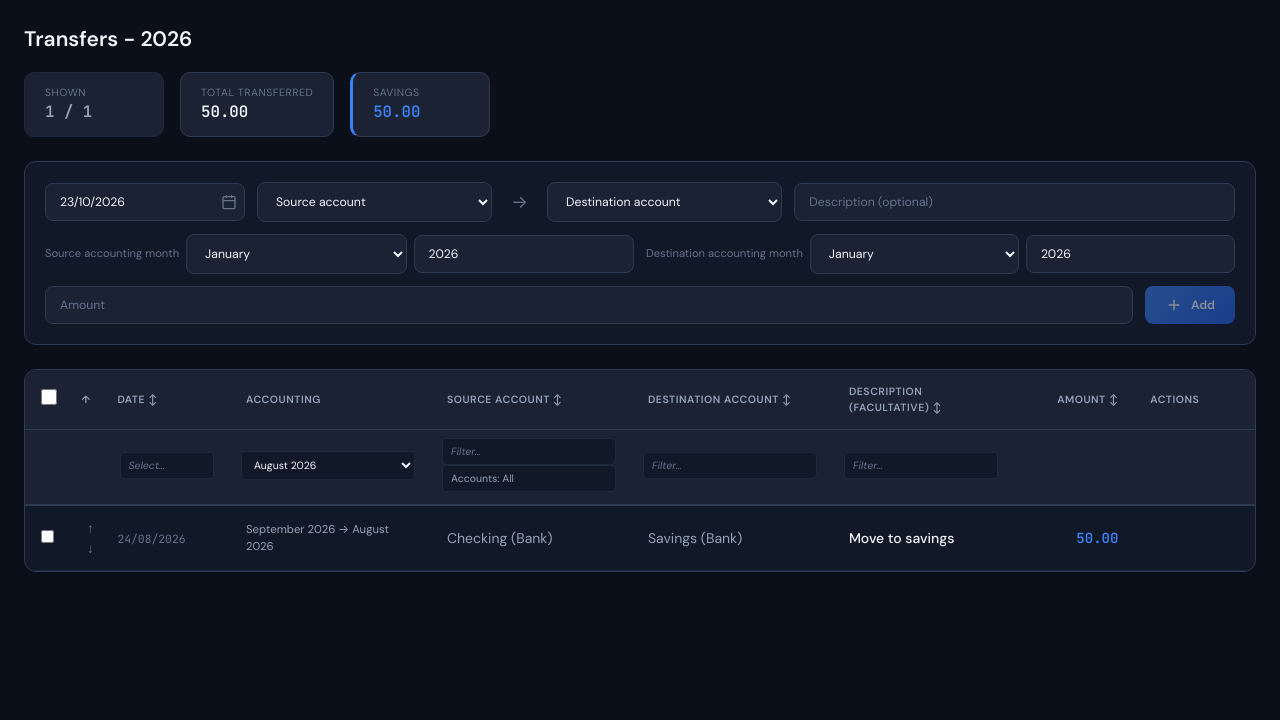
Test: transfer filters › counts savings only in the savings side accounting period
Select "August 2026" in the dropdown named "Accounting month" at x=328, y=465, box top-left (241, 451), bottom-right (415, 480)
Select "August 2026" in the dropdown named "Accounting month" at x=328, y=465, box top-left (241, 451), bottom-right (415, 480)
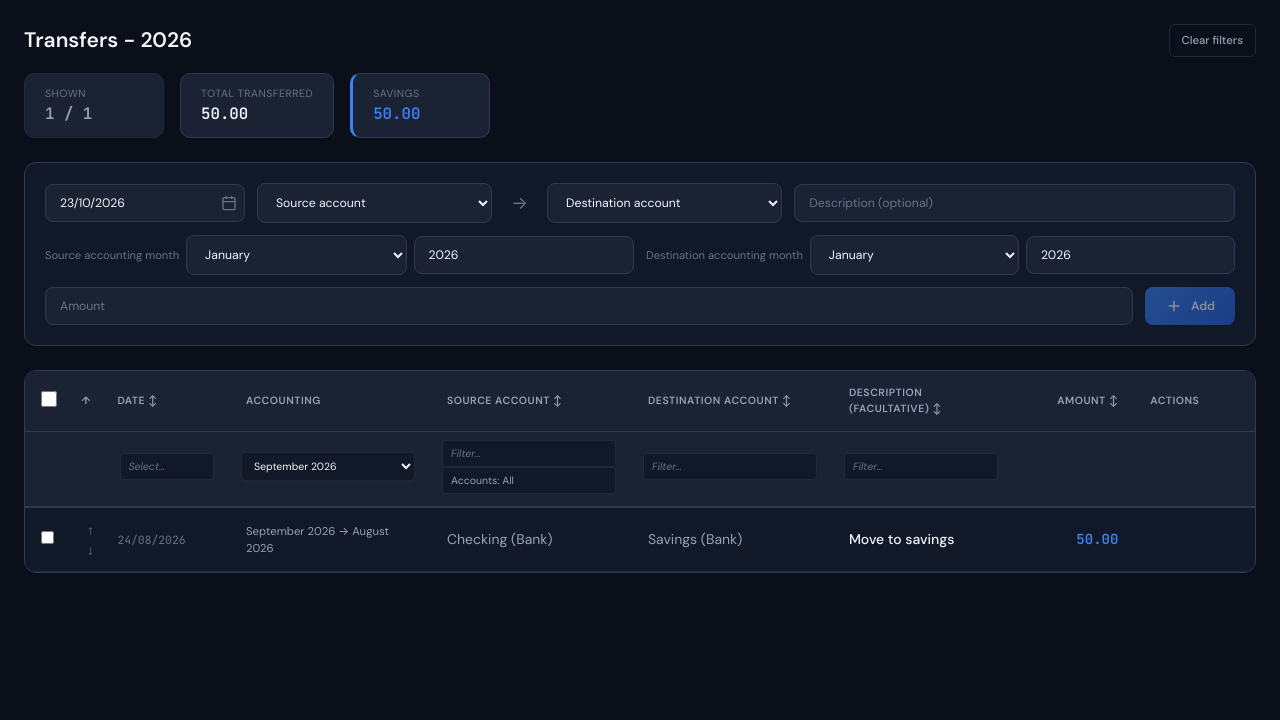
Expected: the element with class "savings" is shown, top-left (350, 73), bottom-right (490, 138)
Select "September 2026" in the dropdown named "Accounting month" at x=328, y=467, box top-left (241, 452), bottom-right (415, 481)
Select "September 2026" in the dropdown named "Accounting month" at x=328, y=467, box top-left (241, 452), bottom-right (415, 481)
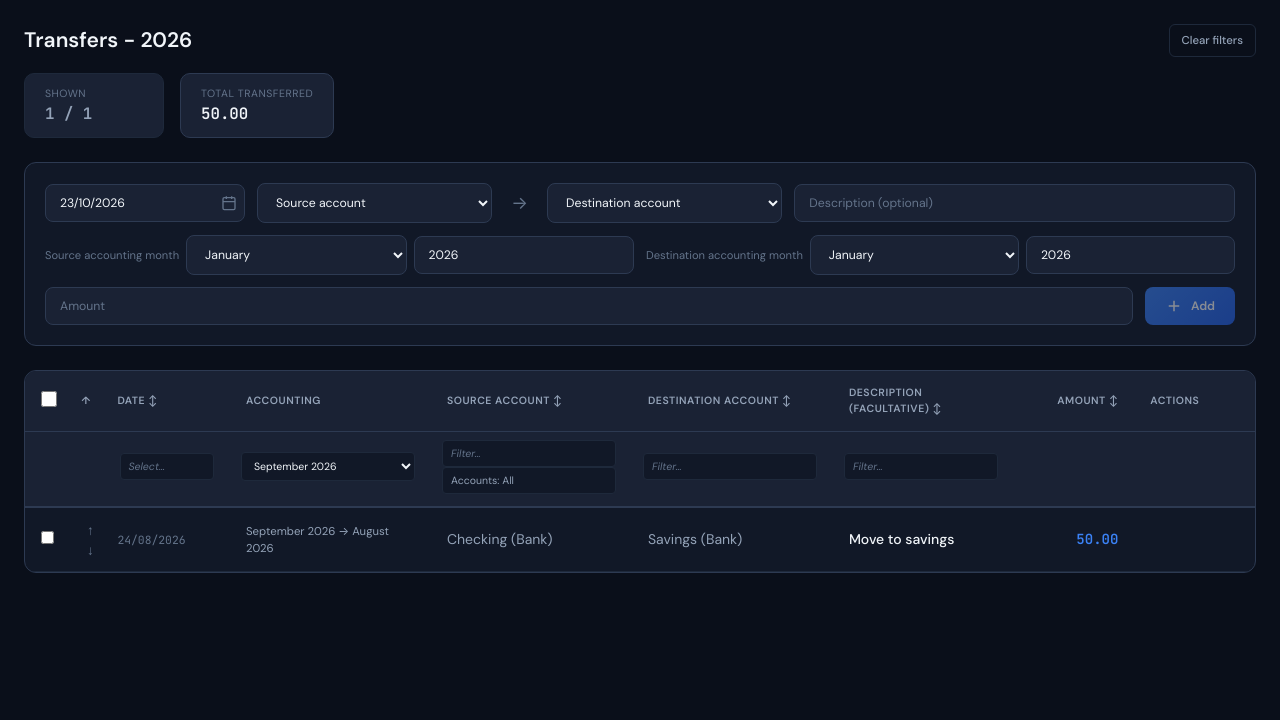
Expected: the element with class "savings" is gone
